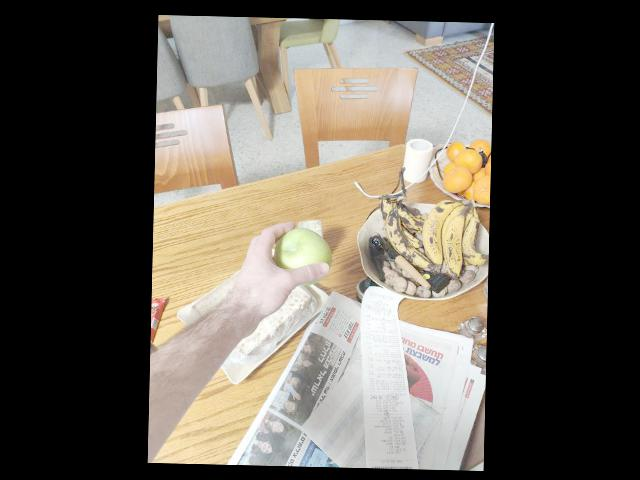apple: (261, 223, 328, 277)
